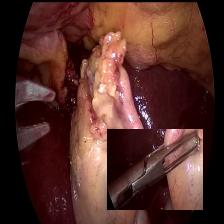Clipper: (14, 64, 60, 156)
Grasper: (106, 128, 202, 209)
